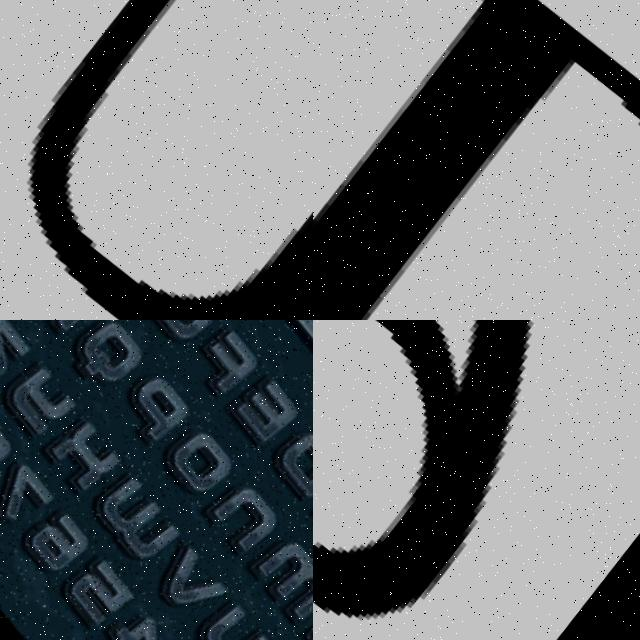4: (70, 592, 183, 640)
5: (26, 538, 138, 640)
6: (313, 320, 640, 640), (0, 498, 94, 593)
7: (0, 448, 55, 539)
8: (0, 396, 20, 492)
T: (313, 0, 640, 320)
U: (0, 0, 313, 320)
